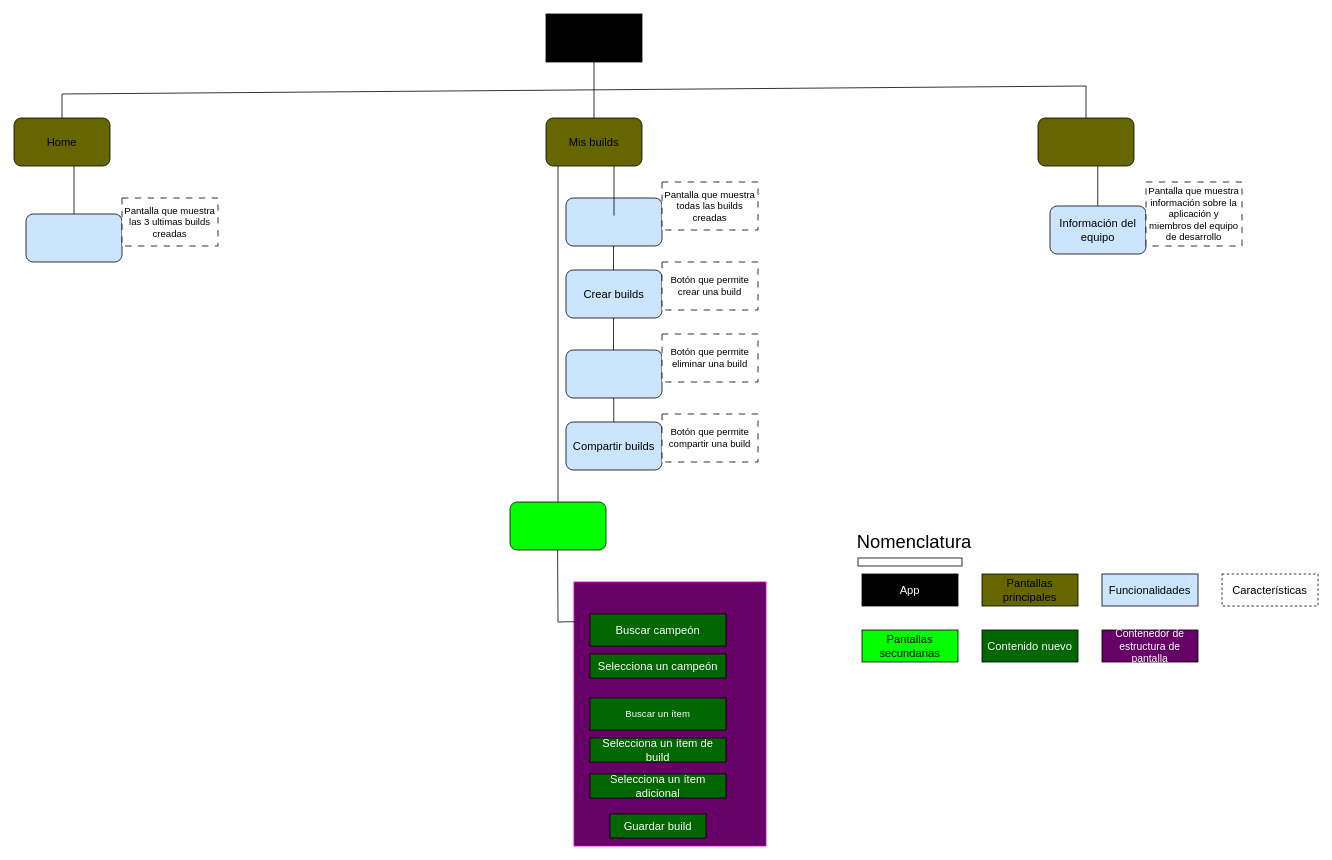
This 1332x860 diagram has some shape labels left out. The shapes that lost their labels are listed below. From the top down, each one's box as (x1, y1, x2, y2) in pixels, then its label:
(545, 13, 642, 62): LeagueOfBuilds
(1037, 117, 1134, 166): Sobre
(25, 213, 122, 262): Ultimas builds creadas
(565, 197, 662, 246): Builds creadas
(565, 349, 662, 398): Eliminar builds
(509, 501, 606, 550): Pantalla de crear build
(573, 581, 766, 846): Detalles de crear build
